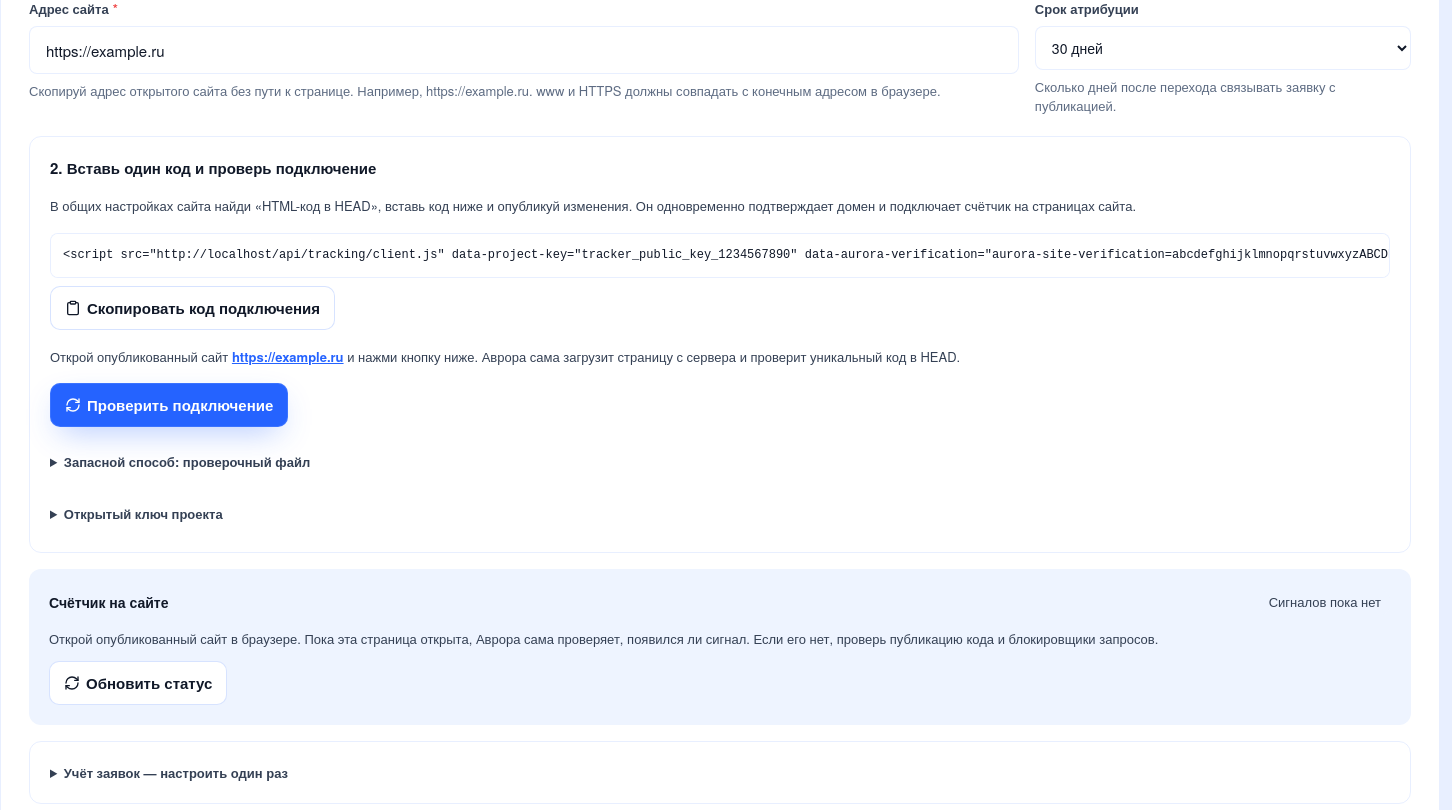
Scenario: tracking setup journey › uses server verification and keeps installation status separate
(page scrolled)
Click the button "Проверить подключение".
click(169, 405)  # box left=50, top=383, right=288, bottom=427
(page scrolled)
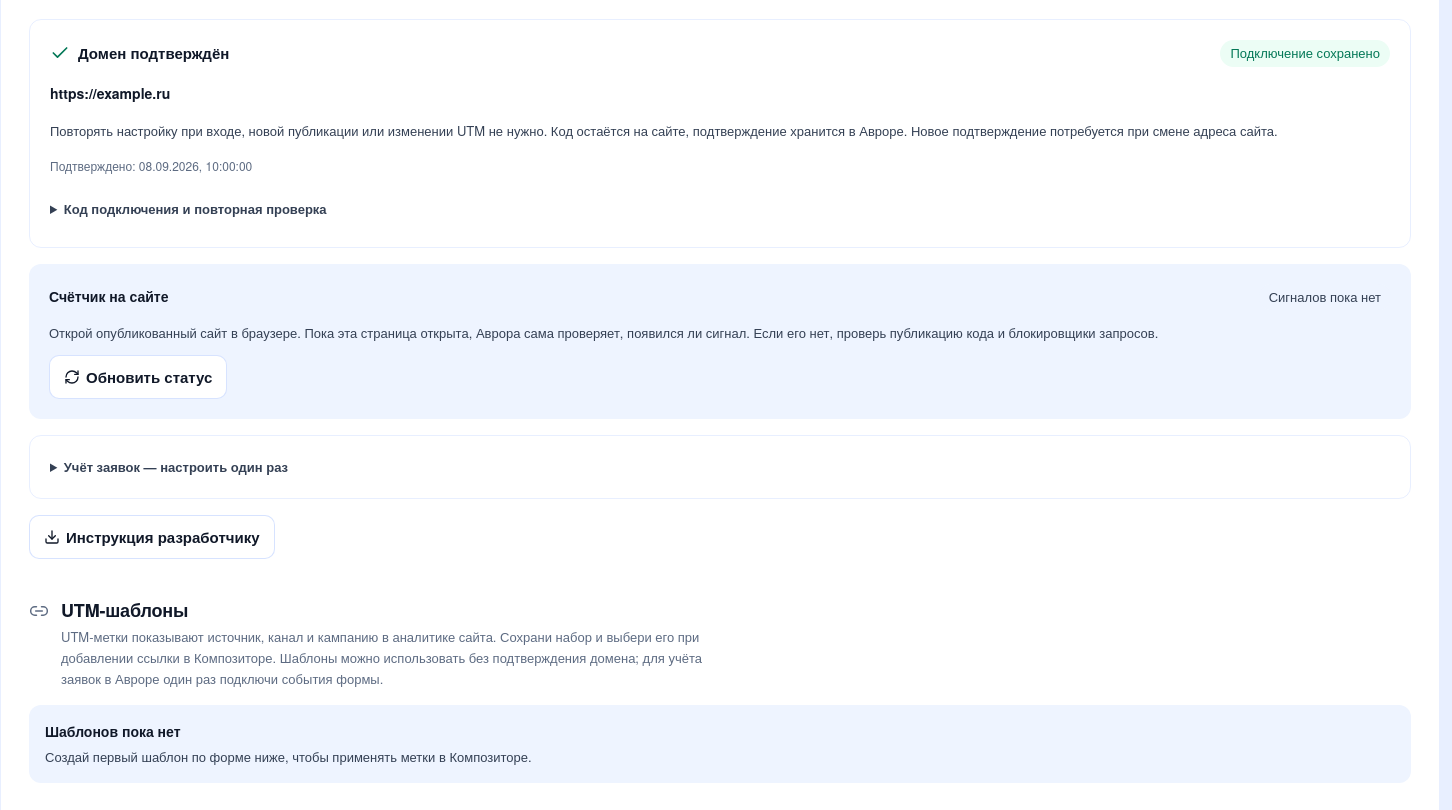
Check: the text "Сигналов пока нет" is shown, box left=1259, top=284, right=1391, bottom=310
Check: the text "Подключение сохранено" is shown, box left=1220, top=40, right=1390, bottom=67
Check: the button "Проверить подключение" is gone
Click the button "Обновить статус".
click(138, 378)  # box left=49, top=356, right=227, bottom=400
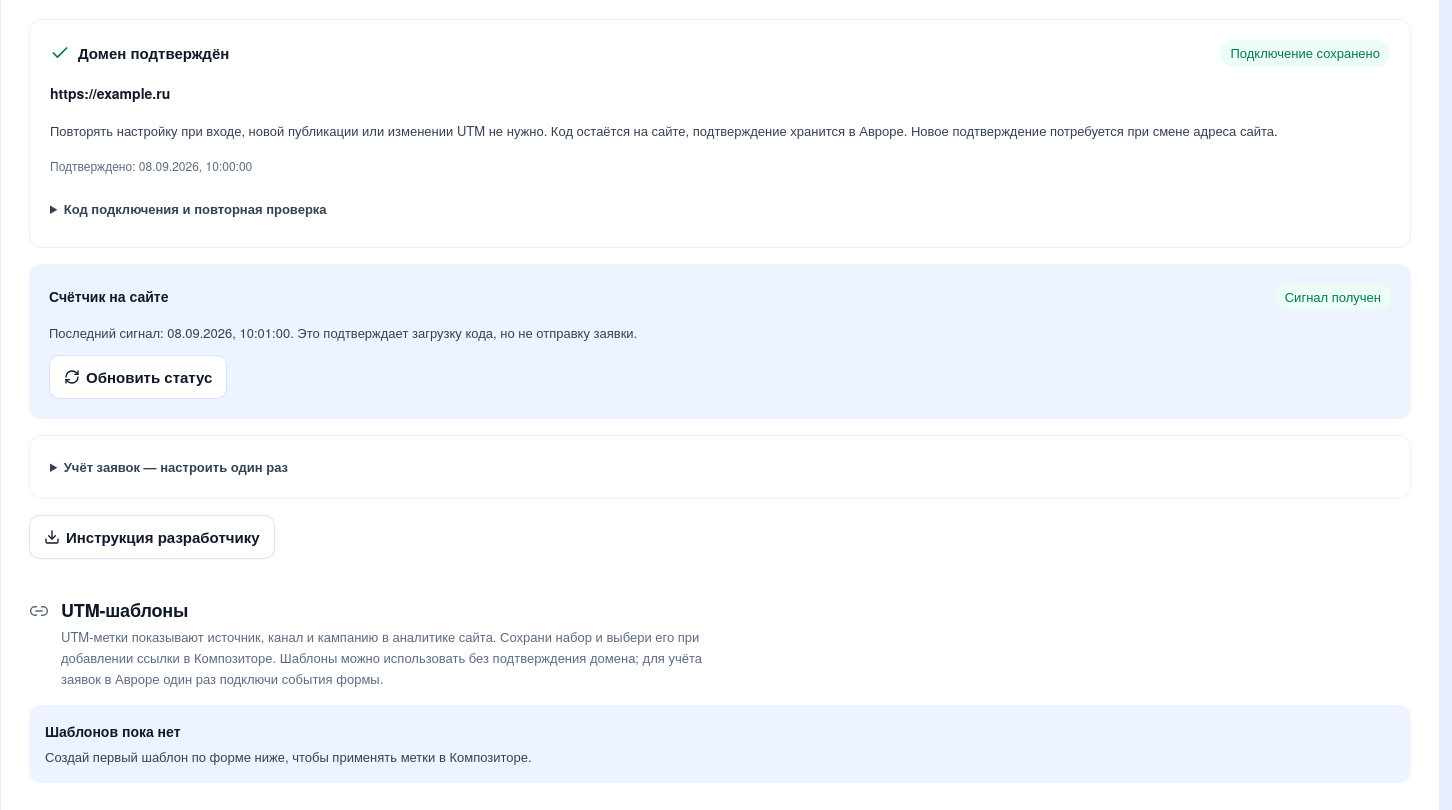
Check: the text "Сигнал получен" is shown, box left=1275, top=284, right=1391, bottom=310
Check: the text "Это подтверждает загрузку кода, но не отправку заявки" is shown, box left=290, top=323, right=637, bottom=342
